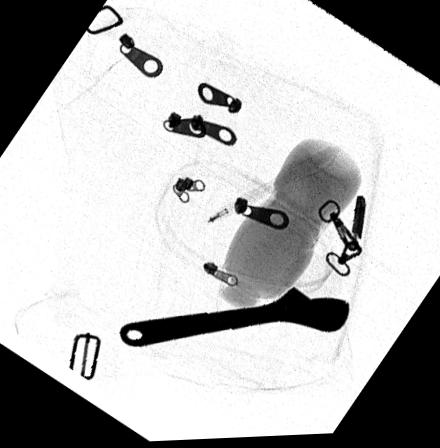Wrench: (117, 287, 351, 348)
